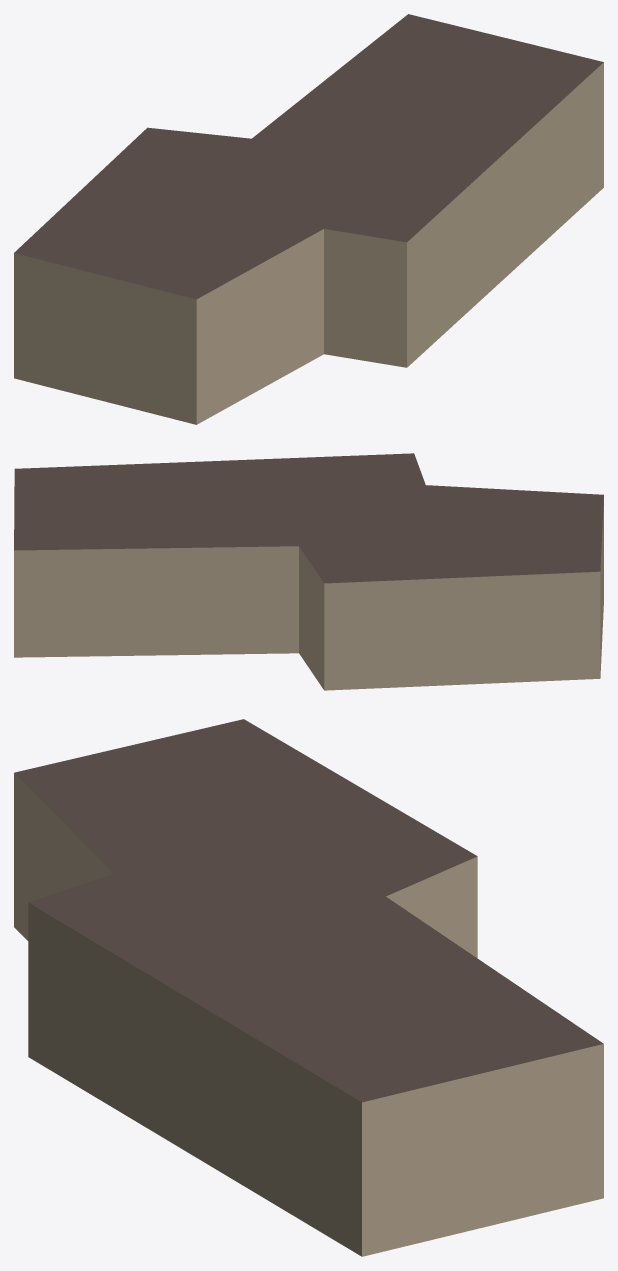
3 views of the same model, one above another, from view 1: azimuth 30°, elevation 25°; view 2: azimuth 150°, elevation 25°; view 3: azimuth 270°, elevation 25° (orthographic). The views are drawn at different scales.
Parts seen in each view (by area): view 1: HP-w1512359765; view 2: HP-w1512359765; view 3: HP-w1512359765.
Boxes of the visible parts, left/top/right/bottom form: HP-w1512359765: left=14, top=14, right=603, bottom=424; HP-w1512359765: left=14, top=453, right=603, bottom=690; HP-w1512359765: left=14, top=719, right=603, bottom=1256.
Size of the model in its own units: 47.9 by 9 by 31.16.
